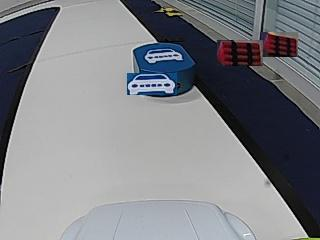safety: (144, 48, 183, 63)
